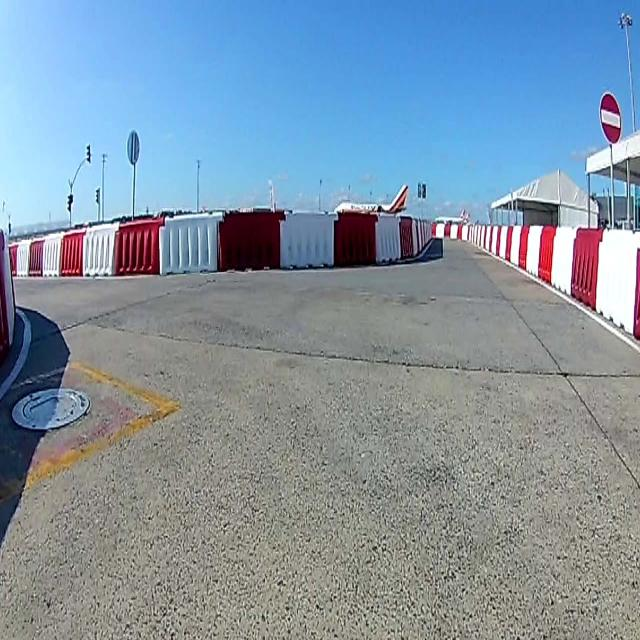girisyok: (598, 91, 623, 145)
